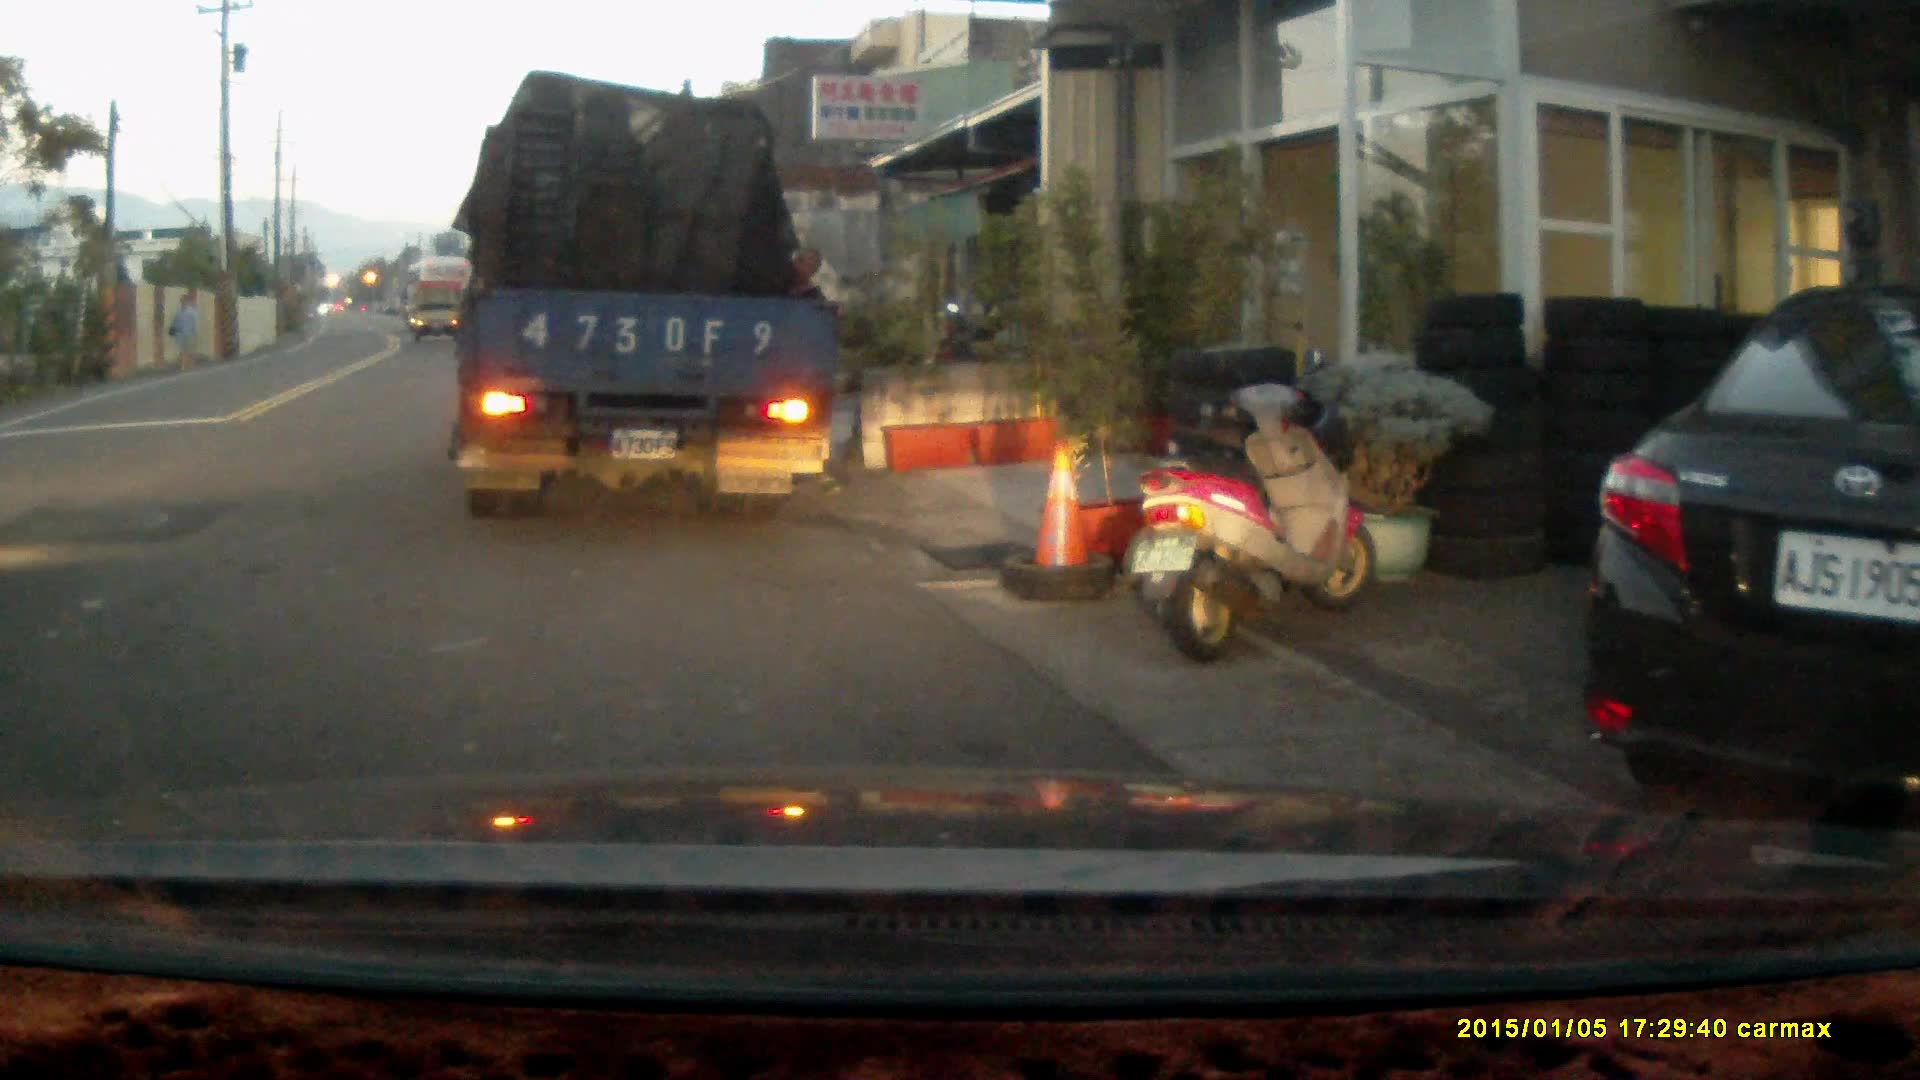pedestrian: (169, 290, 201, 364)
vehicle: (1576, 278, 1920, 843), (442, 83, 849, 506), (402, 251, 473, 332), (412, 285, 463, 341)
